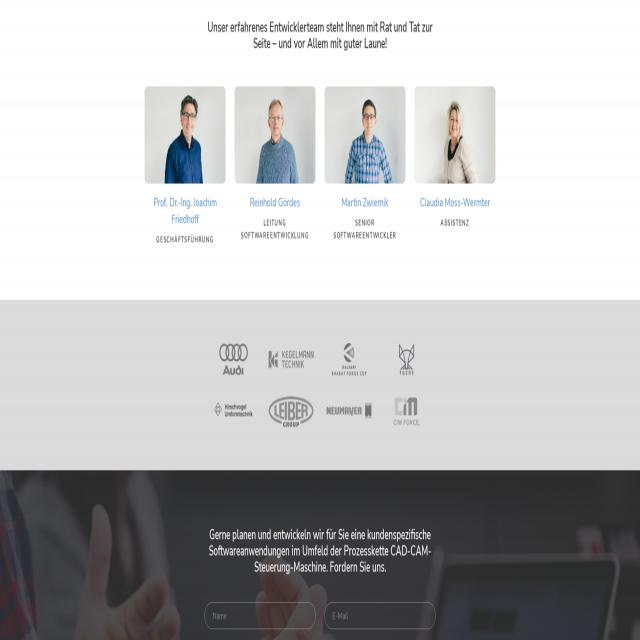button: (144, 86, 226, 184), (234, 86, 316, 184), (324, 86, 406, 184), (414, 86, 496, 184), (268, 394, 314, 427), (326, 394, 372, 427), (211, 394, 256, 427), (384, 394, 429, 427), (268, 343, 314, 375), (326, 343, 372, 375), (211, 343, 256, 375), (384, 343, 429, 375)
field: (204, 603, 316, 628), (324, 604, 436, 629)
